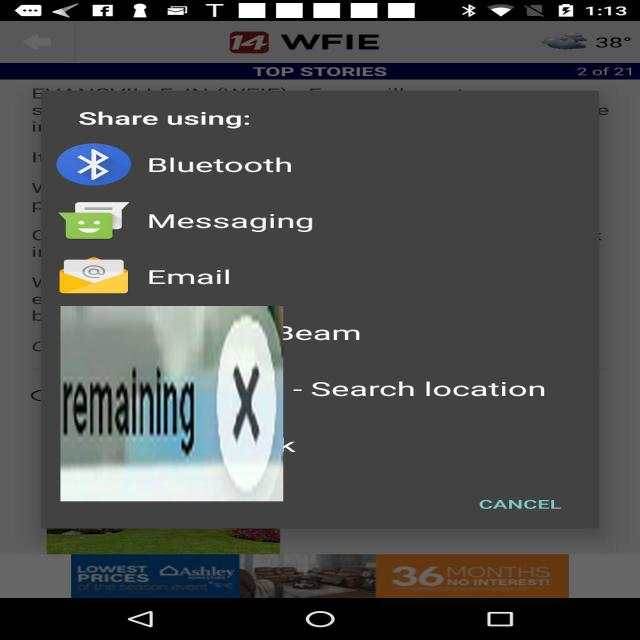misdirection: (60, 306, 284, 501)
